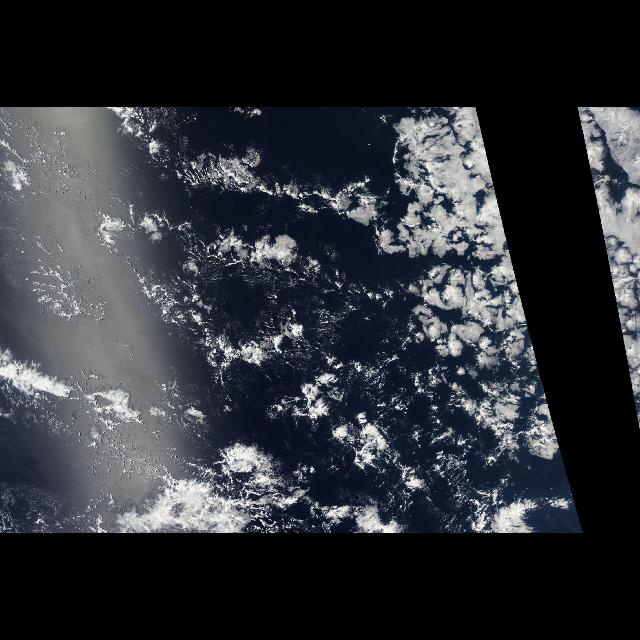Fish: (16, 110, 398, 352)
Flower: (370, 114, 568, 470), (578, 114, 594, 192)
